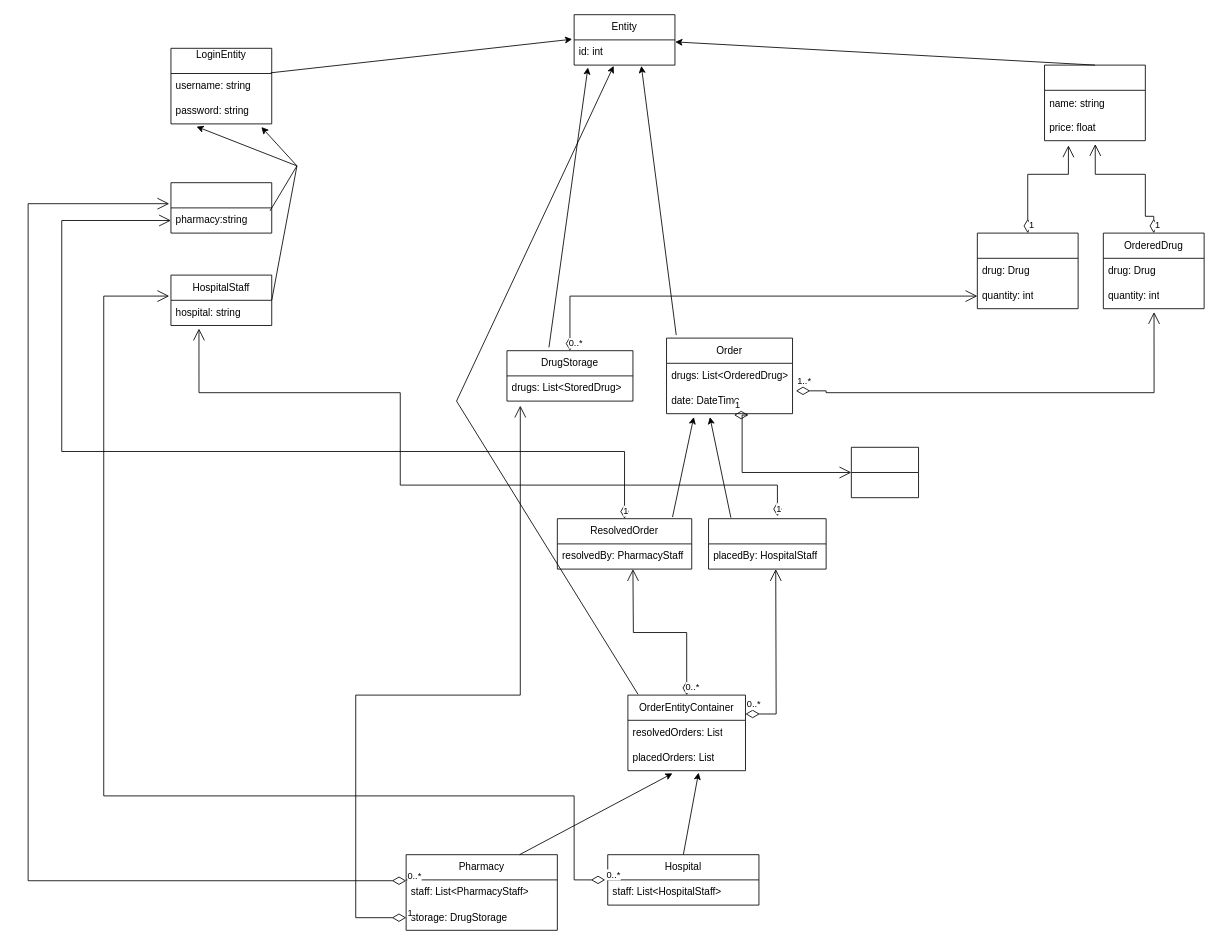
Some shapes in this 1219 by 947 pixel diagram are drawn without their labels. Here are the shapes that lost their labels. From the top down, the box of each, then its label:
(1044, 64, 1145, 141): Drug
(170, 182, 272, 233): PharmacyStaff
(976, 232, 1078, 309): StoredDrug
(850, 446, 919, 498): DateTime
(708, 518, 826, 569): PlacedOrder
